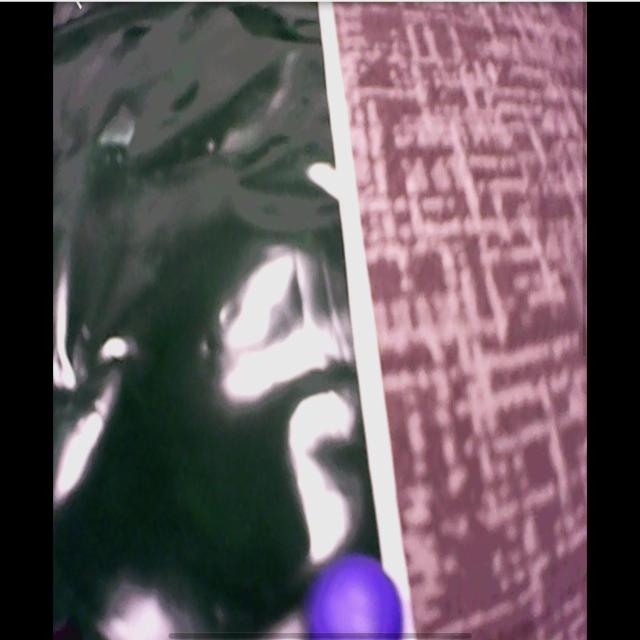ball: (308, 555, 404, 640)
